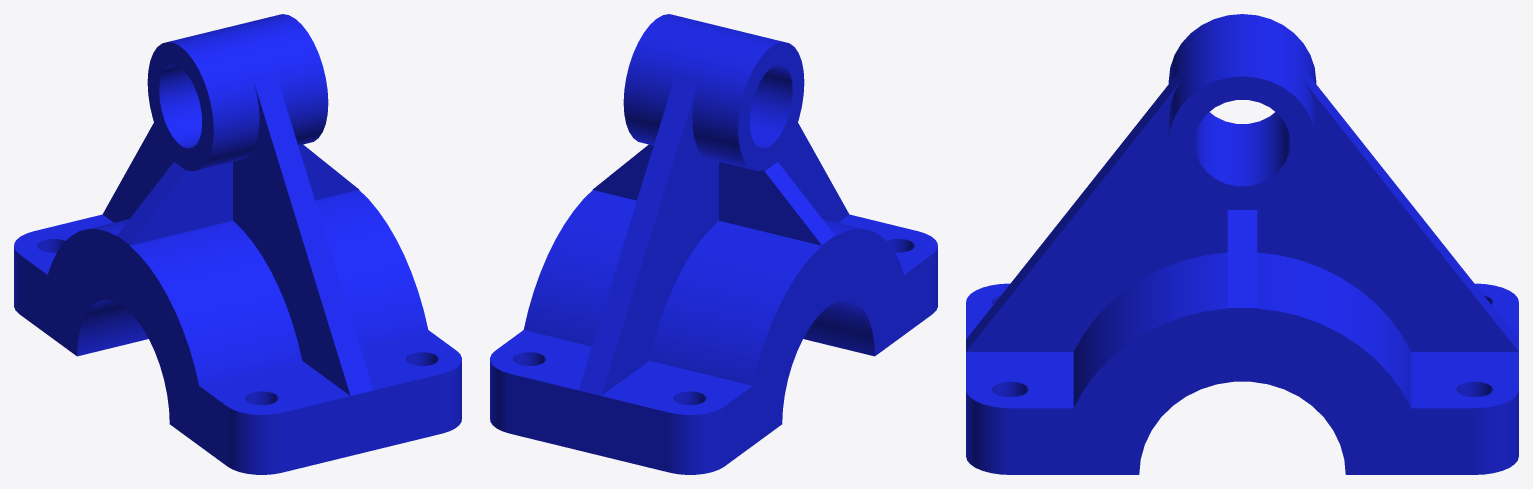
File: asset.glb
3 renders of one model, left to right at view 1: azimuth 30°, elevation 25°; view 2: azimuth 150°, elevation 25°; view 3: azimuth 270°, elevation 25°, orthographic. The views are drawn at different scales.
Parts seen in each view (by area): view 1: Solid1; view 2: Solid1; view 3: Solid1.
Part boxes in pixels (x1,y1,x2,y2): Solid1: (14, 14, 461, 474); Solid1: (490, 14, 937, 474); Solid1: (966, 14, 1518, 474).
Size of the model in its own units: 0.2 by 0.275 by 0.375.
